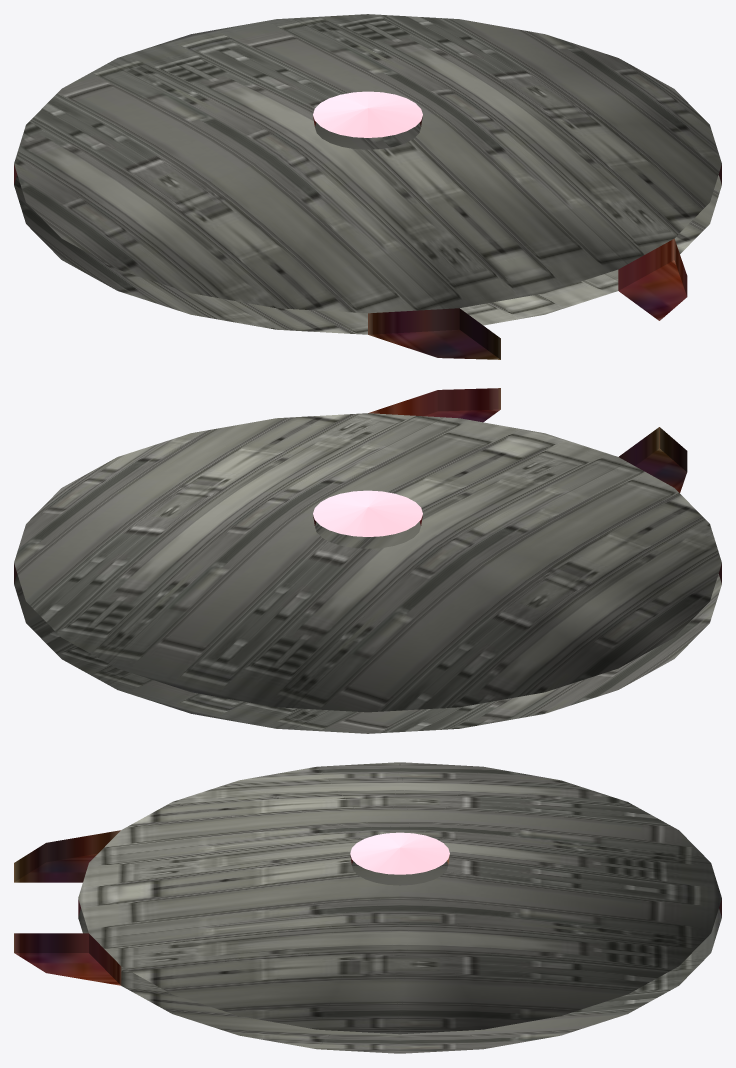
File: Saucer.glb
3 renders of one model, top to bottom at view 1: azimuth 30°, elevation 25°; view 2: azimuth 150°, elevation 25°; view 3: azimuth 270°, elevation 25°, orthographic. The views are drawn at different scales.
Parts seen in each view (by area): view 1: saucerkk; view 2: saucerkk; view 3: saucerkk.
Boxes of the visible parts, x1=… form: saucerkk: x1=14, y1=14, x2=721, y2=359; saucerkk: x1=14, y1=388, x2=721, y2=733; saucerkk: x1=14, y1=762, x2=721, y2=1053.
Size of the model in its own units: 30.05 by 5.61 by 33.05.
Materials: 3 (2 with a texture image).
